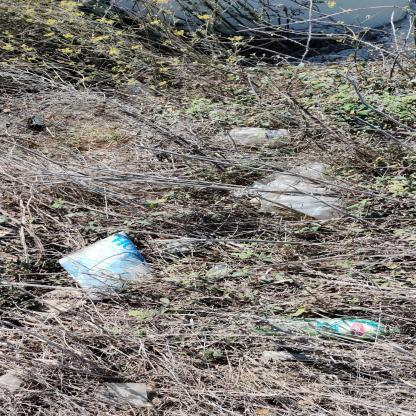trash: (56, 228, 162, 303), (247, 162, 365, 225), (210, 124, 308, 151)
